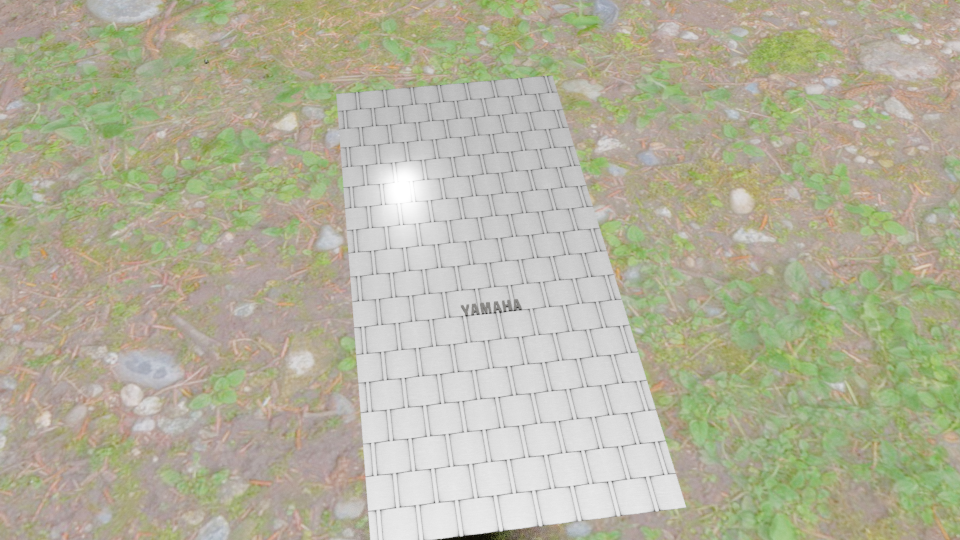yamaha_letters: (459, 298, 523, 315)
